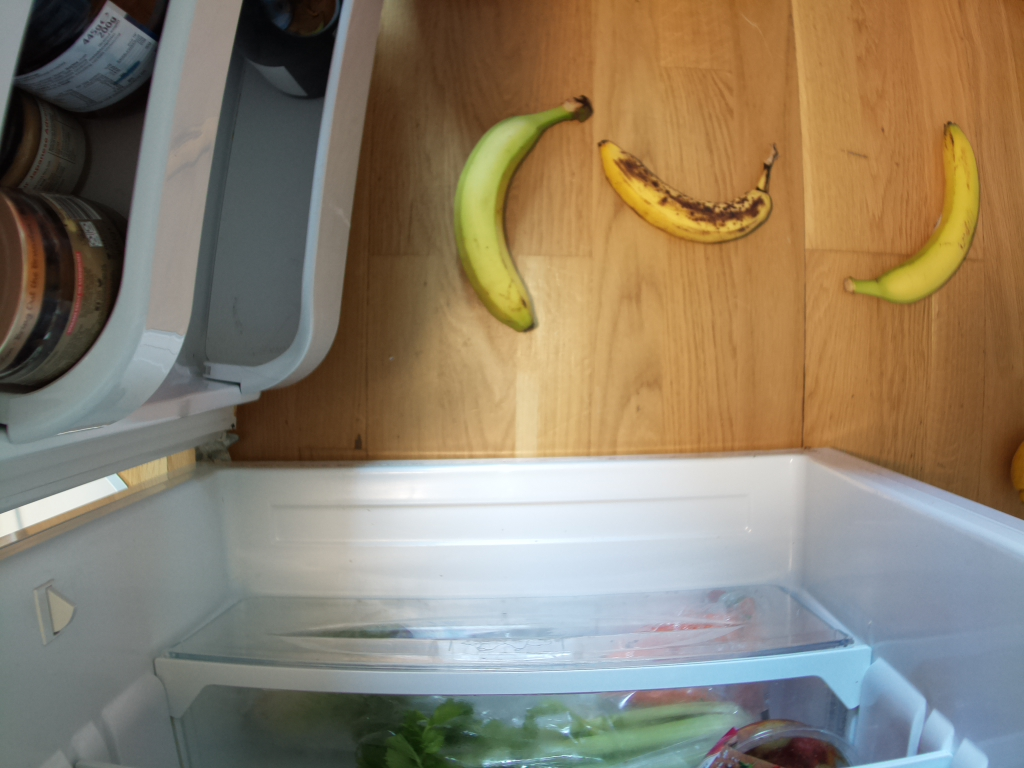banana-overripe: (596, 126, 777, 245)
banana-unripe: (449, 98, 598, 331), (849, 117, 977, 303)
